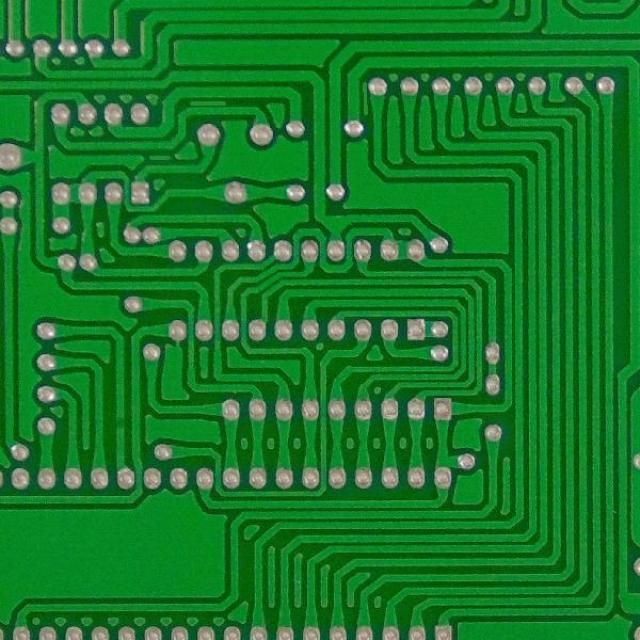spurious_copper: (188, 93, 228, 112), (146, 151, 173, 162)
